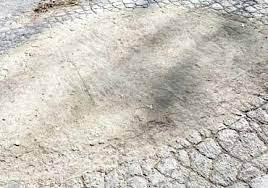alligator-crack: (75, 90, 268, 188), (33, 0, 268, 26)
